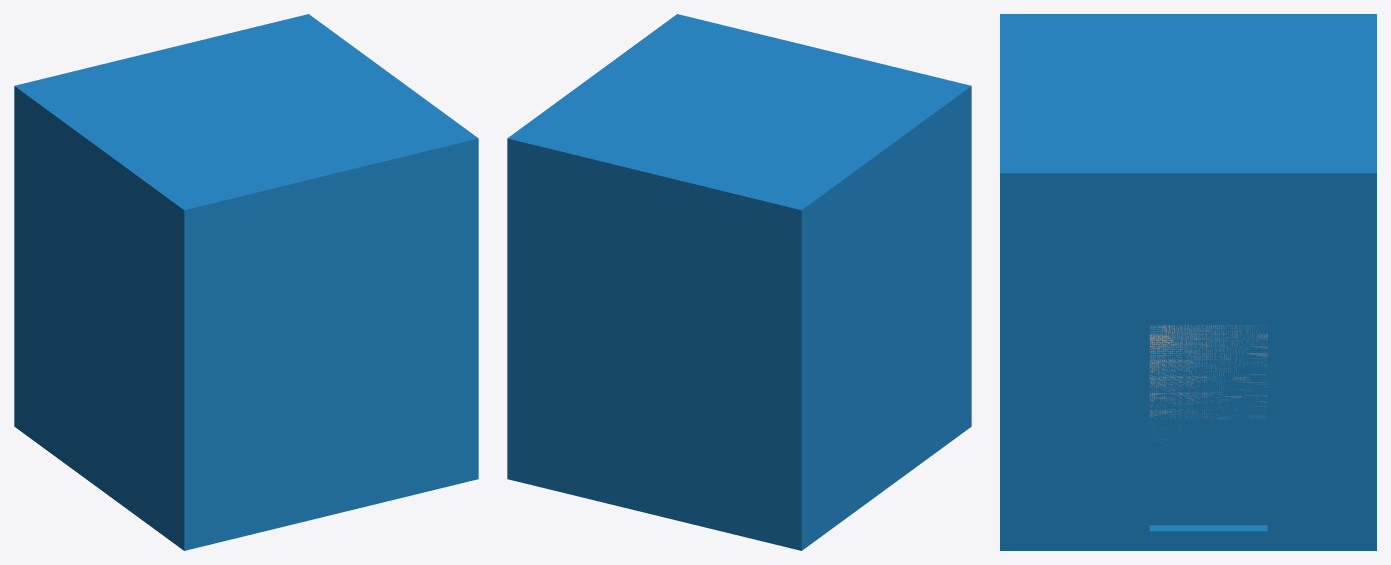
Rendered from CUBETOTESTBOXVOL_4-2-14-lts.fbx.
3 renders of one model, left to right at view 1: azimuth 30°, elevation 25°; view 2: azimuth 150°, elevation 25°; view 3: azimuth 270°, elevation 25°, orthographic. The views are drawn at different scales.
Parts seen in each view (by area): view 1: BSP_Cube; view 2: BSP_Cube; view 3: BSP_Cube, BOXVOL_01, PRT_01.
Boxes of the visible parts, x1,y1,x2,y2 form: BSP_Cube: (14,14,478,550); BSP_Cube: (507,14,971,550); BSP_Cube: (1000,14,1376,550); BOXVOL_01: (1149,325,1267,525); PRT_01: (1149,325,1267,440).
Size of what is drawn, in the model's own units: 330 by 365 by 330.
